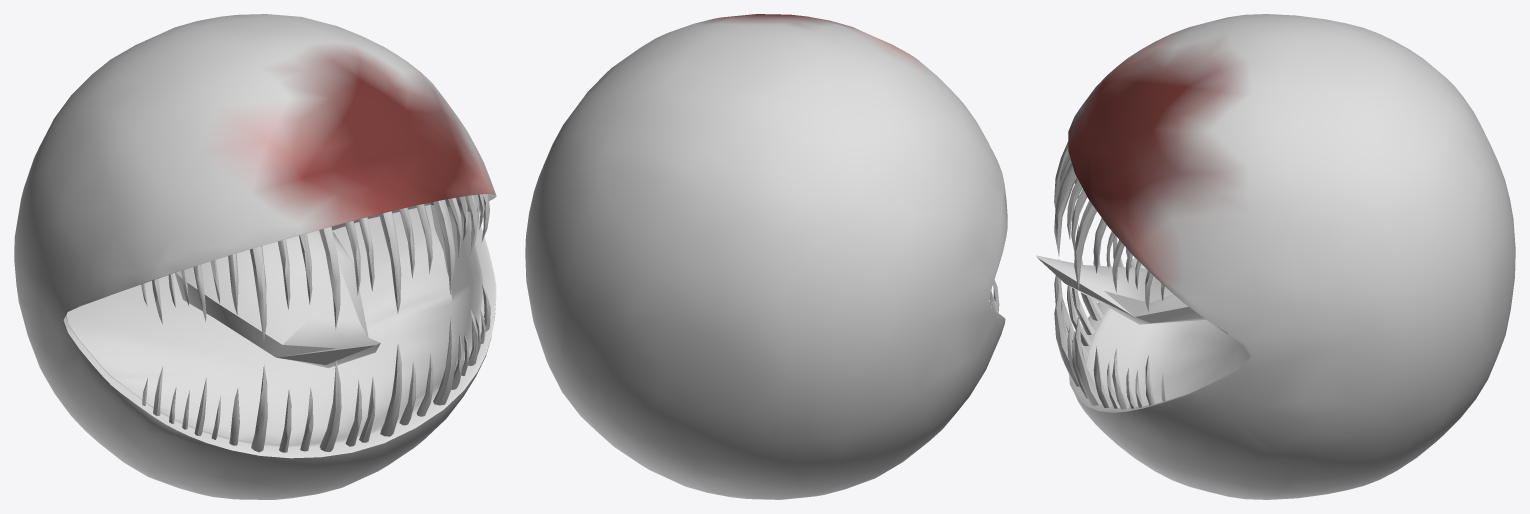
Rendered from boss glas.fbx.
The picture shows the model from 3 angles, left to right: view 1: azimuth 30°, elevation 25°; view 2: azimuth 150°, elevation 25°; view 3: azimuth 270°, elevation 25°; orthographic projection.
Visible parts, largest first — view 1: Cube.002; view 2: Cube.002; view 3: Cube.002.
Boxes of the visible parts, <box> form: Cube.002: <box>14,14,496,499</box>; Cube.002: <box>525,14,1007,499</box>; Cube.002: <box>1036,14,1515,499</box>.
Bounding box in the file's own units: 434 × 433 × 434.
